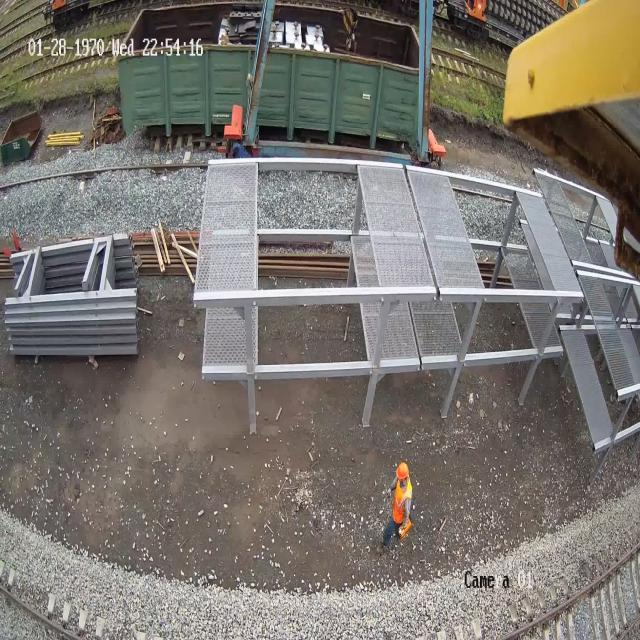Helmet: (396, 461, 409, 479)
Person: (382, 461, 412, 548)
